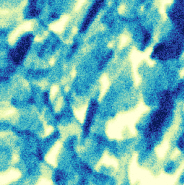hole_filled: (61, 41, 169, 145)
